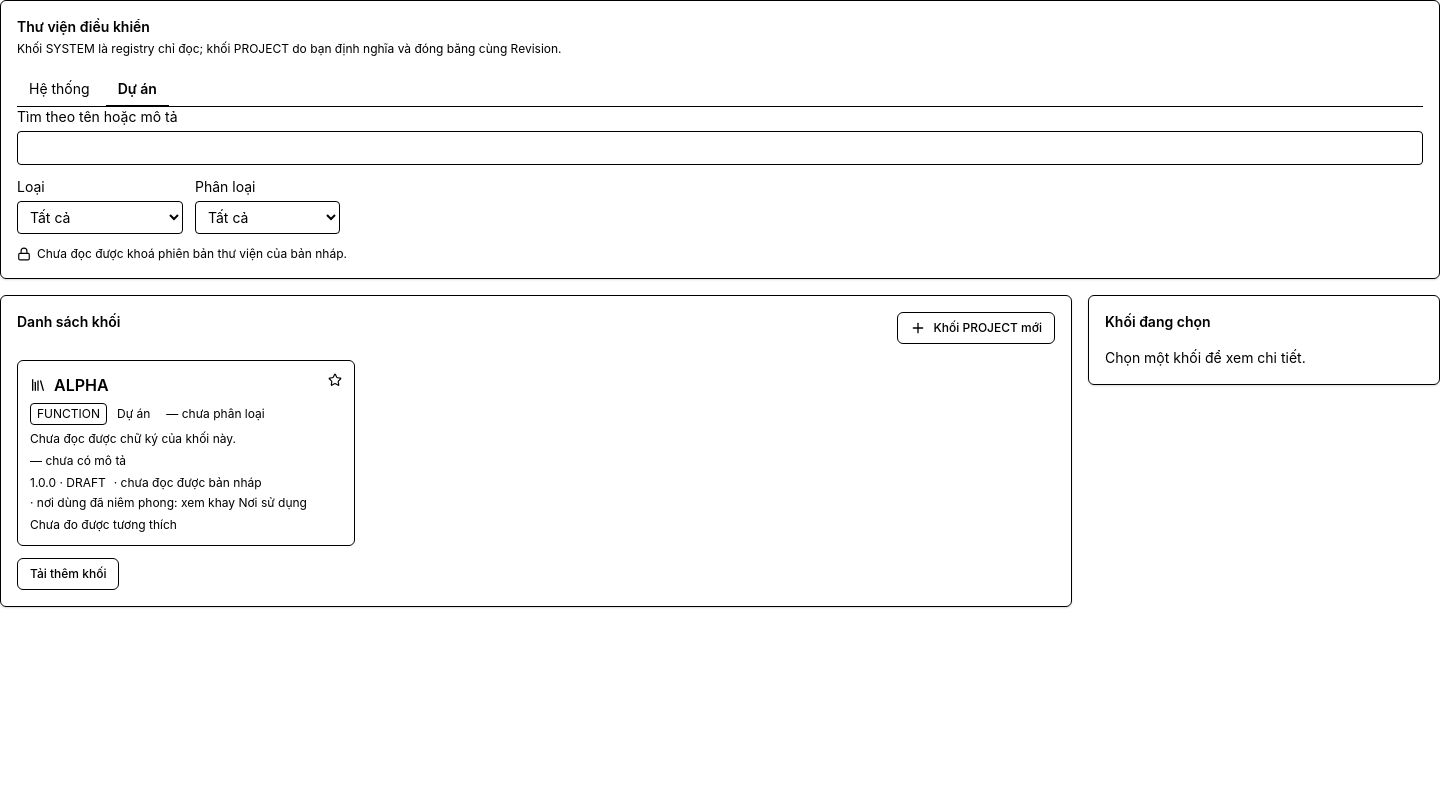
Test: LibraryPage — phân trang › còn trang thì nói ra và tải tiếp được, không im lặng cắt danh sách
Check: the button with test id "library-block-card" is shown, box [17, 360, 355, 546]
Click the button "Tải thêm khối": coordinates (68, 574) [17, 558, 119, 590]
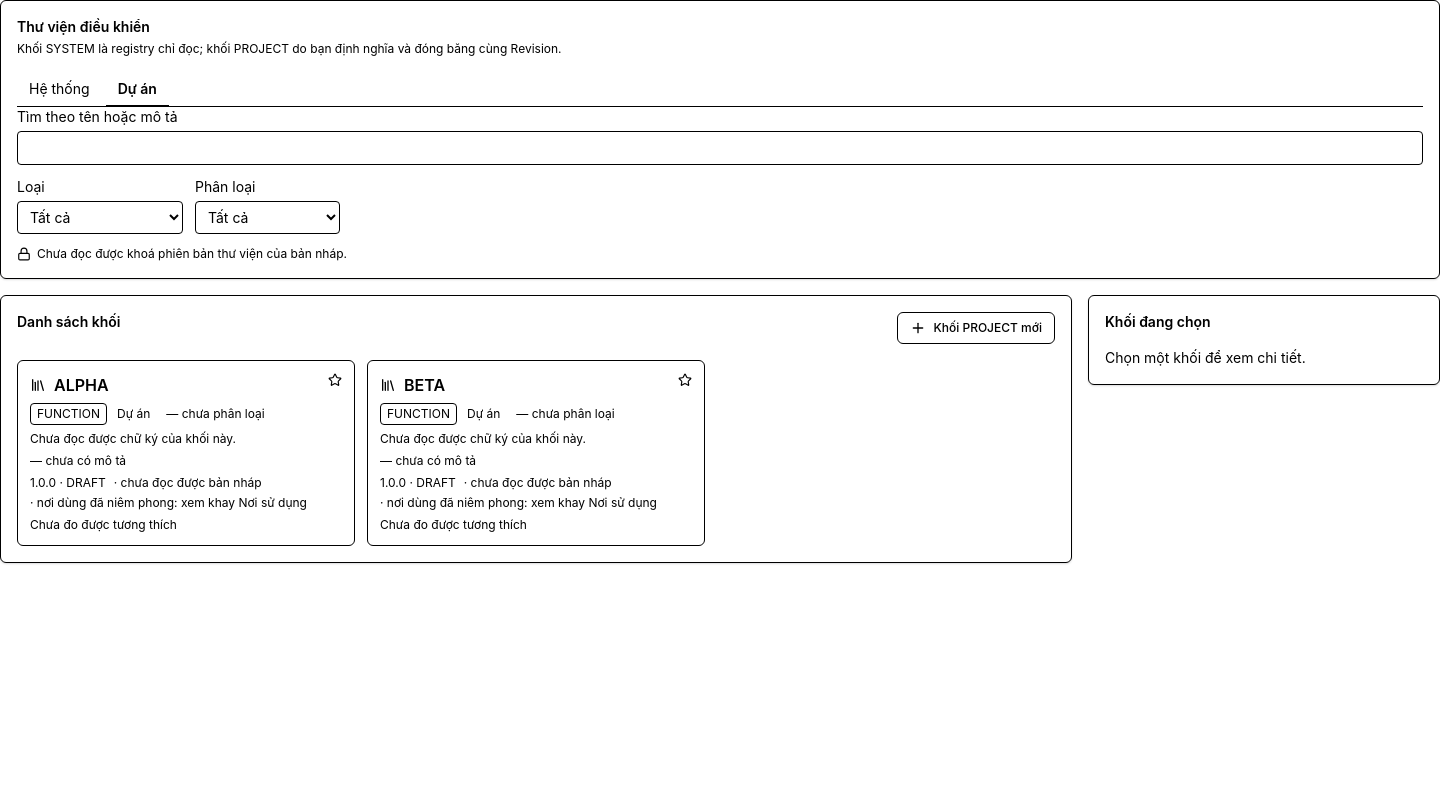
Check: the button with test id "library-block-card" is shown, box [367, 360, 705, 546]
Check: the button "Tải thêm khối" is gone
